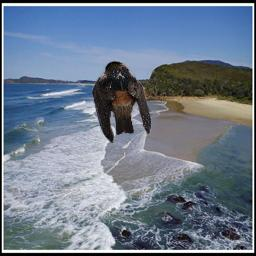Swallow: (92, 61, 152, 144)
